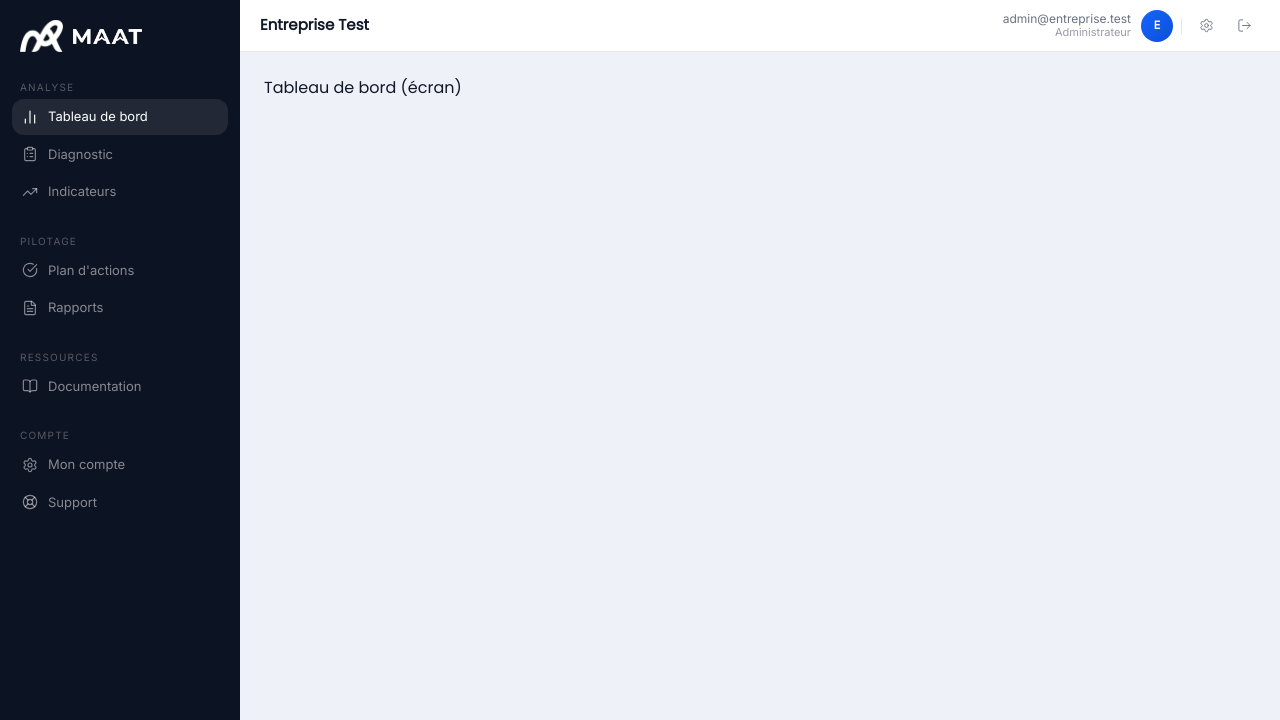
Test case: AppShell › cas 1 : la navigation ne se remonte pas en changeant d’écran
Expected: the heading "Tableau de bord (écran)" is shown, [264,76,462,99]
Click the link "Rapports": click(63, 307) [22,299,103,316]
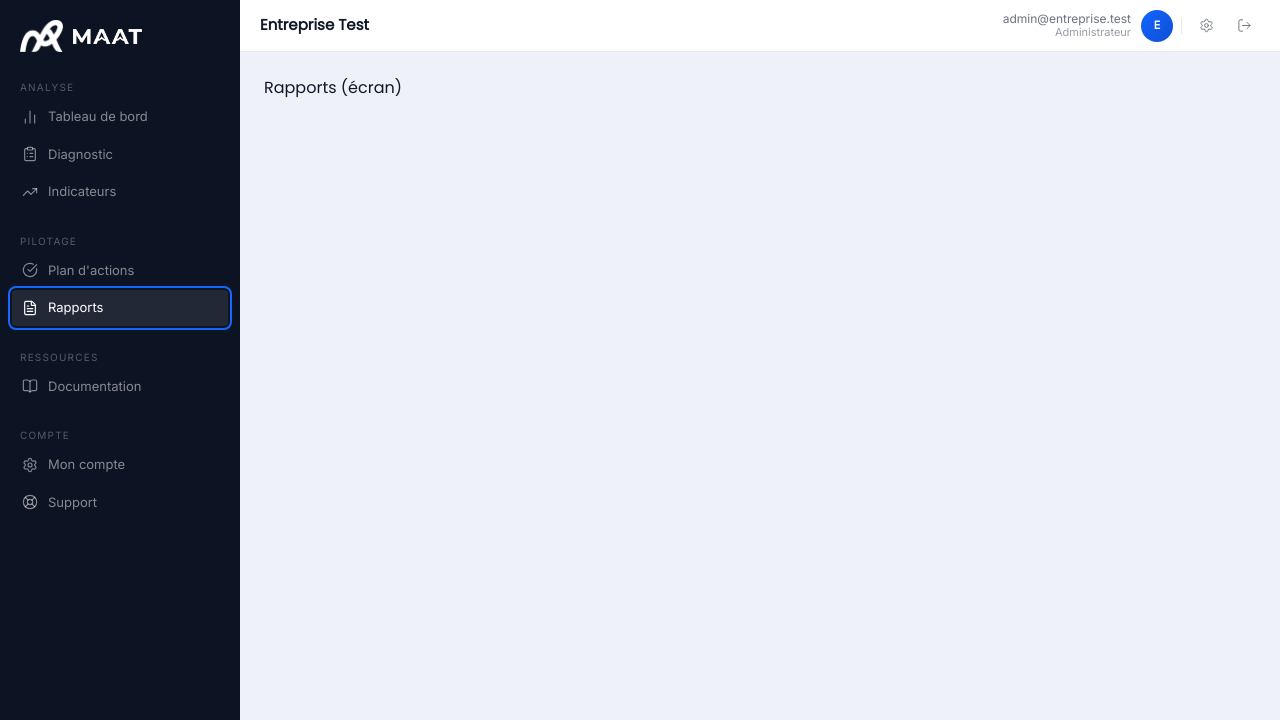
Expected: the heading "Rapports (écran)" is shown, [264,76,402,99]
